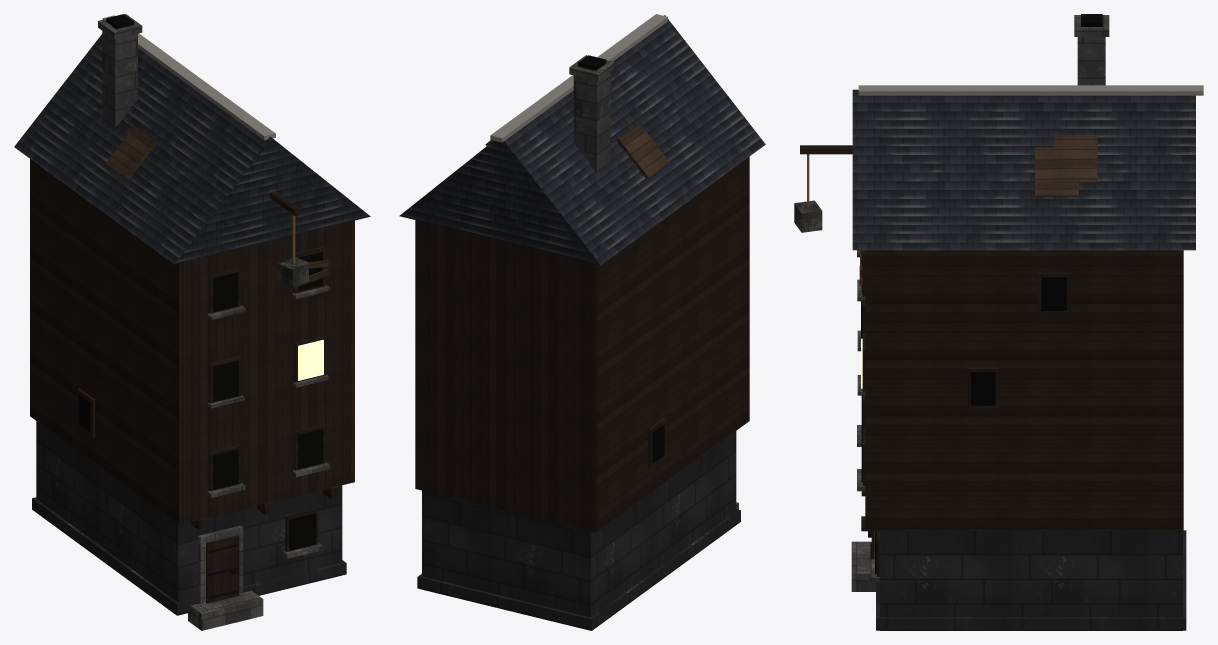
Rendered from CasaS18.gltf.
The picture shows the model from 3 angles, left to right: view 1: azimuth 30°, elevation 25°; view 2: azimuth 150°, elevation 25°; view 3: azimuth 270°, elevation 25°; orthographic projection. The views are drawn at different scales.
Visible parts, largest first — view 1: CasaS18; view 2: CasaS18; view 3: CasaS18.
Boxes of the visible parts, bbox=[...] form: CasaS18: bbox=[14, 14, 370, 630]; CasaS18: bbox=[399, 14, 765, 630]; CasaS18: bbox=[794, 14, 1203, 630].
Size of the model in its own units: 6.25 by 15.86 by 10.56.
Materials: 12 (7 with a texture image).
